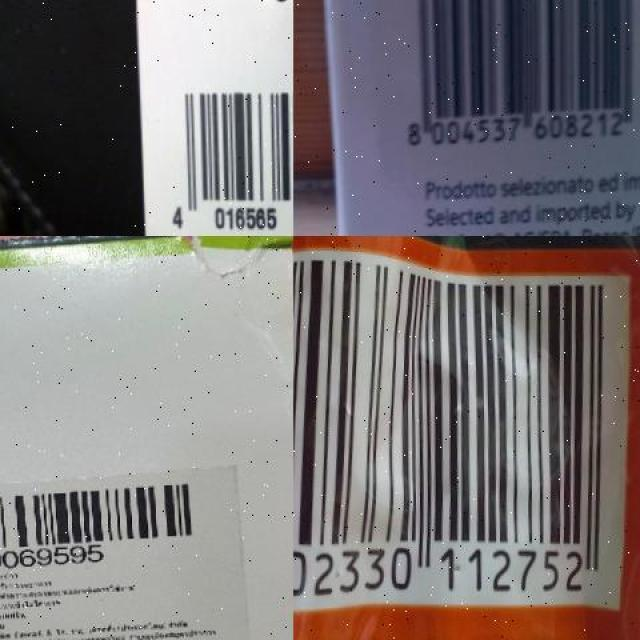Barcode: (293, 236, 640, 623), (386, 0, 637, 153), (151, 72, 293, 236), (0, 476, 205, 574)
